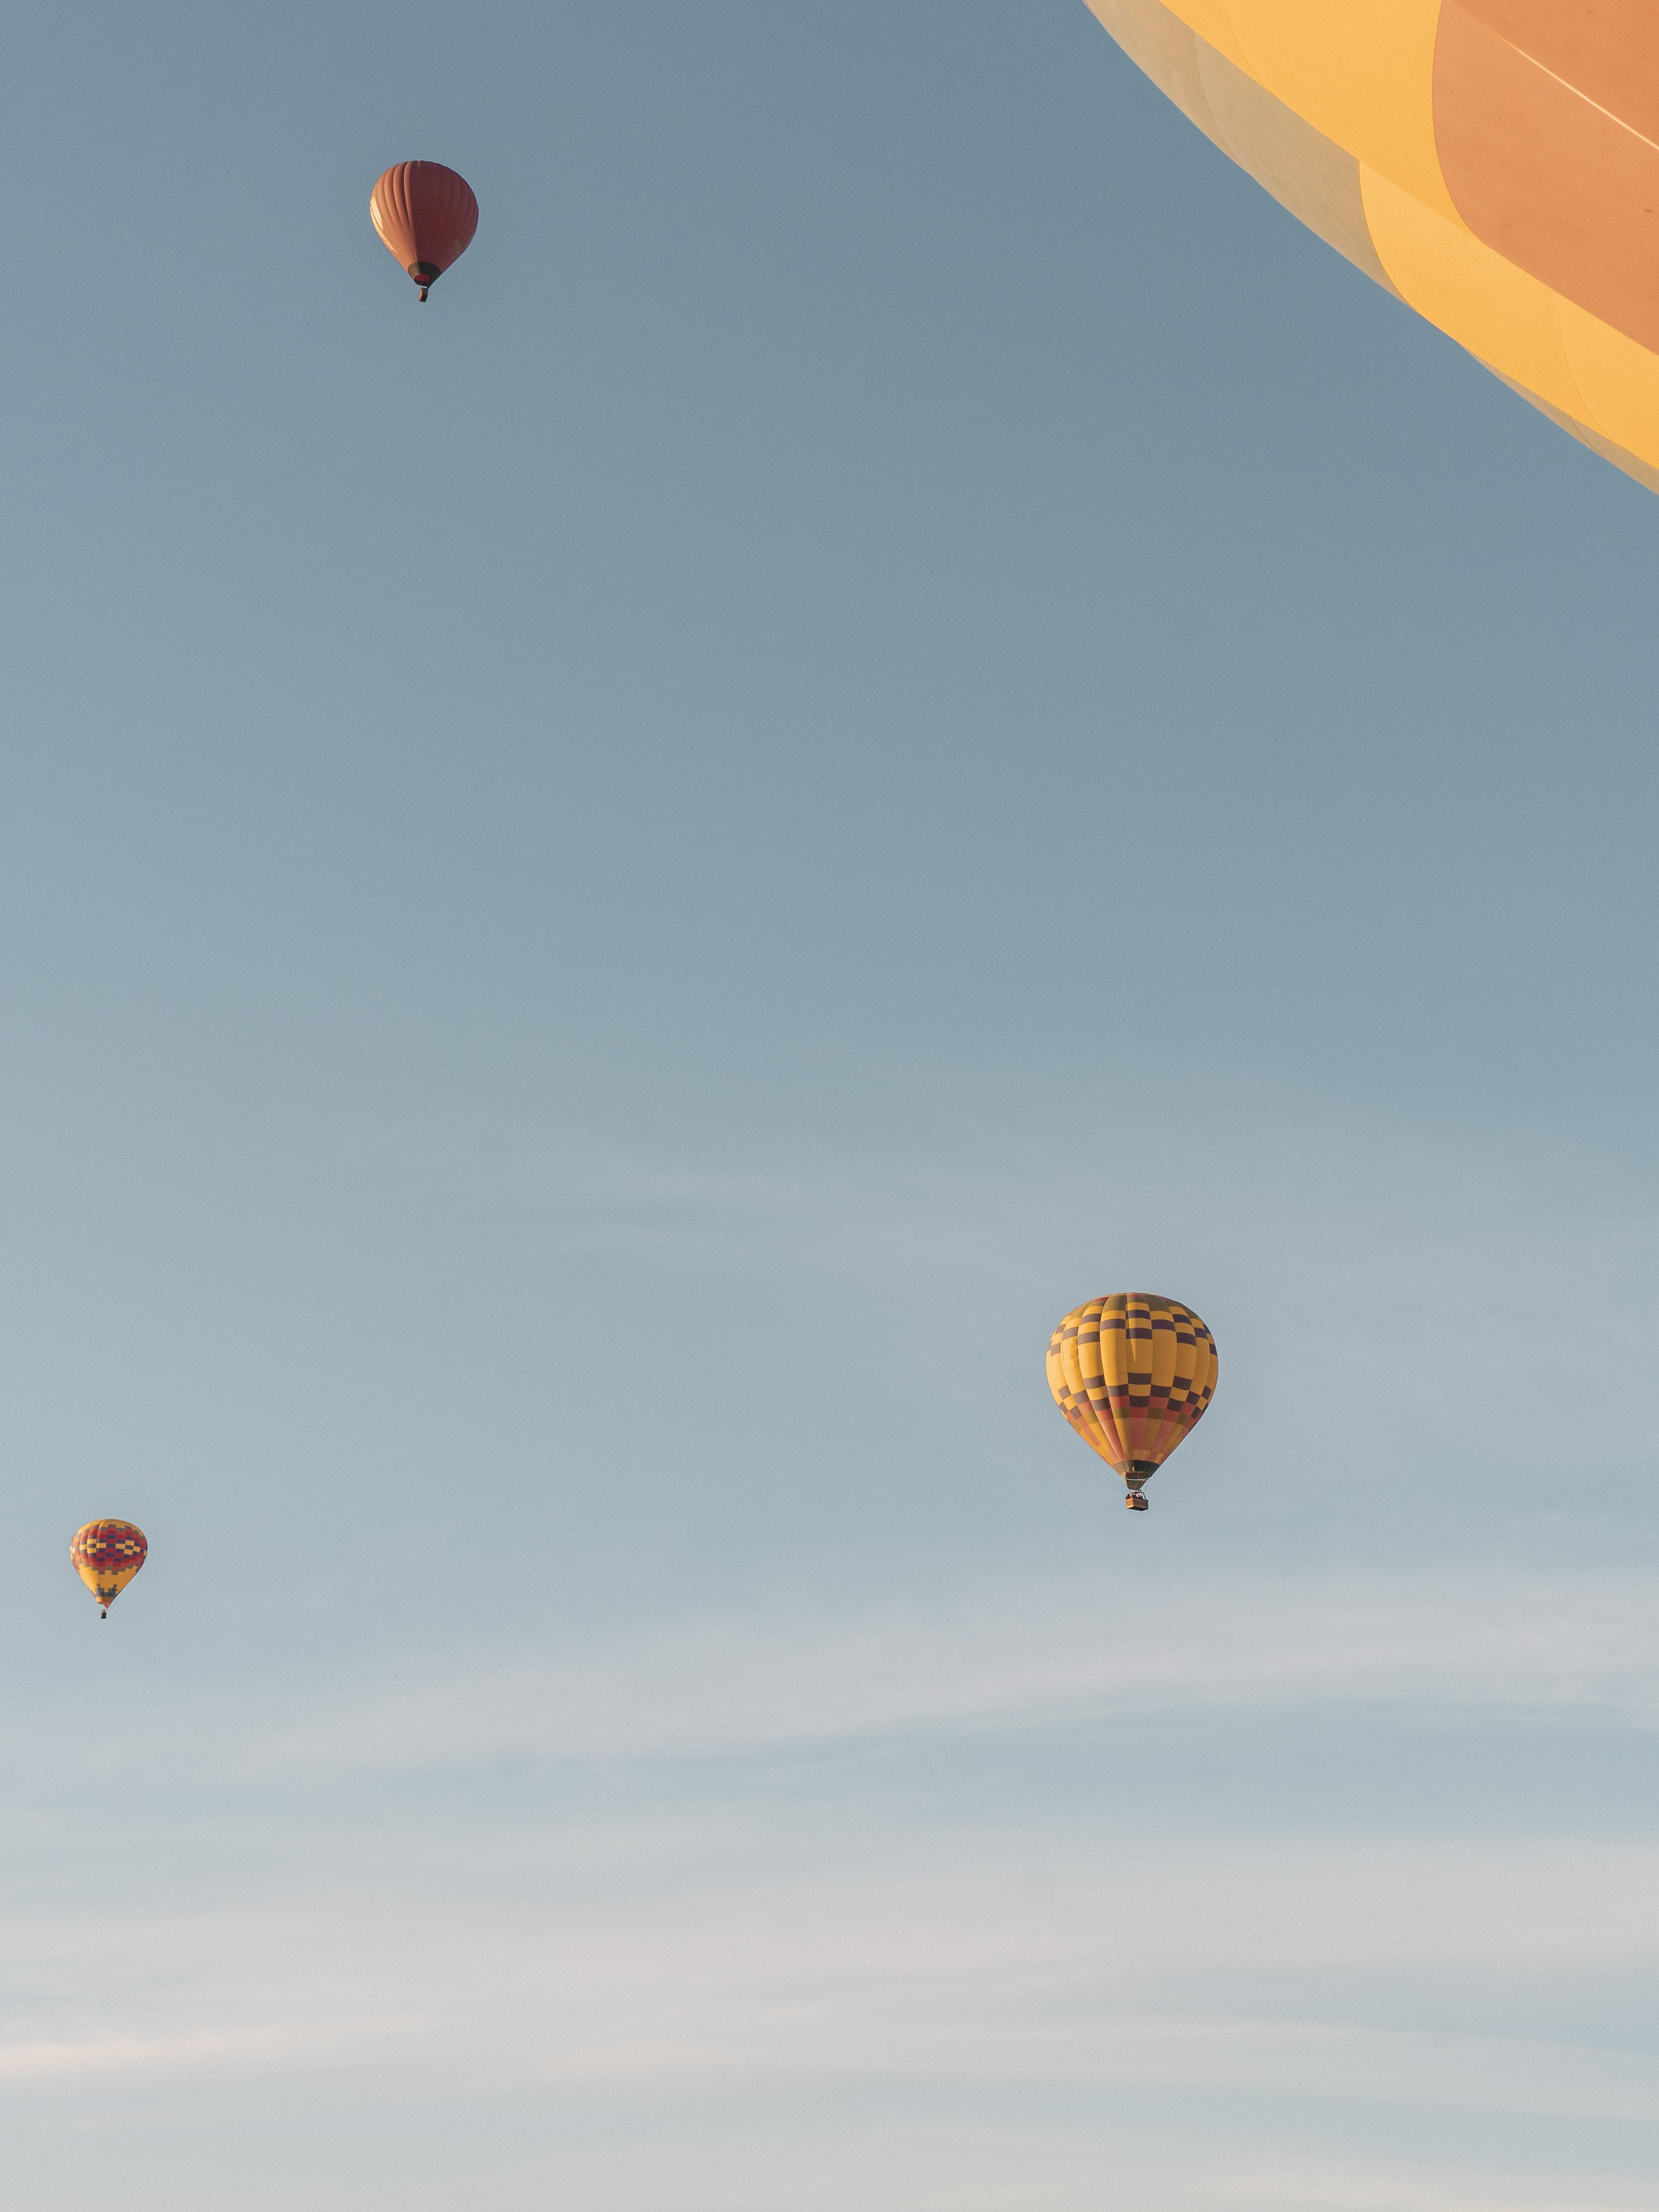hot air ballon: (1046, 1292, 1222, 1514), (369, 160, 479, 303), (68, 1519, 150, 1620)
